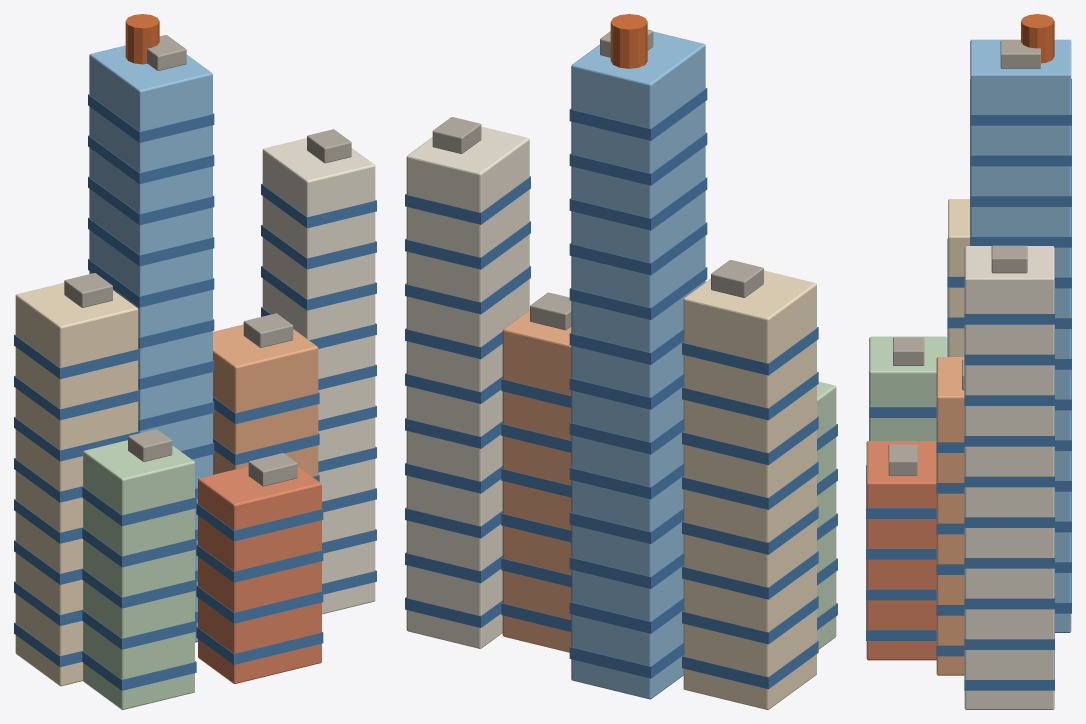
Rendered from city_block.glb.
The picture shows the model from 3 angles, left to right: view 1: azimuth 30°, elevation 25°; view 2: azimuth 150°, elevation 25°; view 3: azimuth 270°, elevation 25°; orthographic projection. The views are drawn at different scales.
Visible parts, largest first — view 1: b1, b3, b0, b5, b4, b2, win4_0, win4_1, win4_2, win4_3, win1_11, win1_10 (+38 smaller); view 2: b1, b0, b3, b2, b5, tank, win1_11, win1_12, win1_9, win1_10, win1_8, win0_4 (+34 smaller); view 3: b3, b1, b4, b2, b5, b0, tank, win1_11, win1_12, win1_10, win3_2, win3_5 (+22 smaller).
Boxes of the visible parts, x1,y1,x2,y2 form: b1: (89,45,212,642); b3: (262,138,375,614); b0: (15,283,138,686); b5: (83,440,194,709); b4: (198,466,321,683); b2: (213,324,318,476); win4_0: (196,626,323,664); win4_1: (196,585,323,623); win4_2: (196,544,323,582); win4_3: (196,503,323,541); win1_11: (88,135,214,183); win1_10: (88,176,214,225); b1: (571,31,705,699); b0: (683,270,816,709); b3: (406,126,529,648); b2: (502,310,571,652); b5: (817,381,836,649); tank: (610,14,647,68); win1_11: (569,132,707,185); win1_12: (569,88,707,140); win1_9: (569,222,707,275); win1_10: (569,177,707,230); win1_8: (569,267,707,319); win0_4: (682,461,818,509); b3: (964,246,1054,709); b1: (970,39,1071,632); b4: (866,441,936,660); b2: (936,357,964,675); b5: (869,336,947,440); b0: (948,199,969,356); tank: (1021,14,1054,63); win1_11: (970,125,1071,166); win1_12: (970,79,1071,125); win1_10: (970,166,1071,206); win3_2: (964,569,1054,609); win3_5: (964,447,1054,487).
Size of the model in its own units: 13.24 by 23.4 by 7.34.
